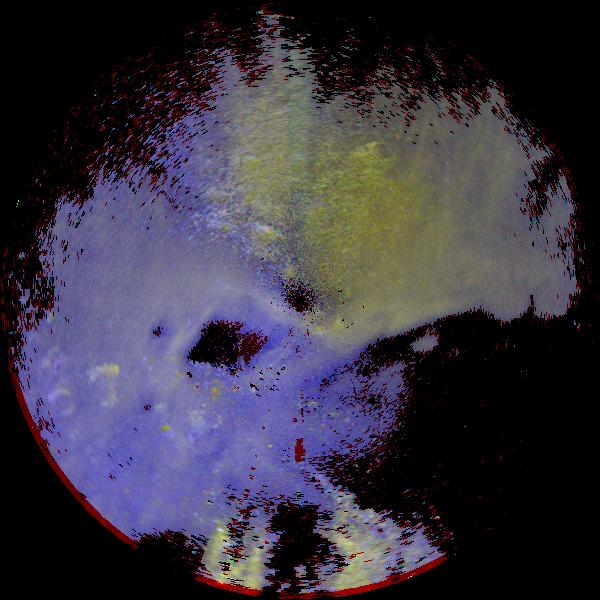roost: (80, 365, 125, 410), (45, 387, 78, 420)
